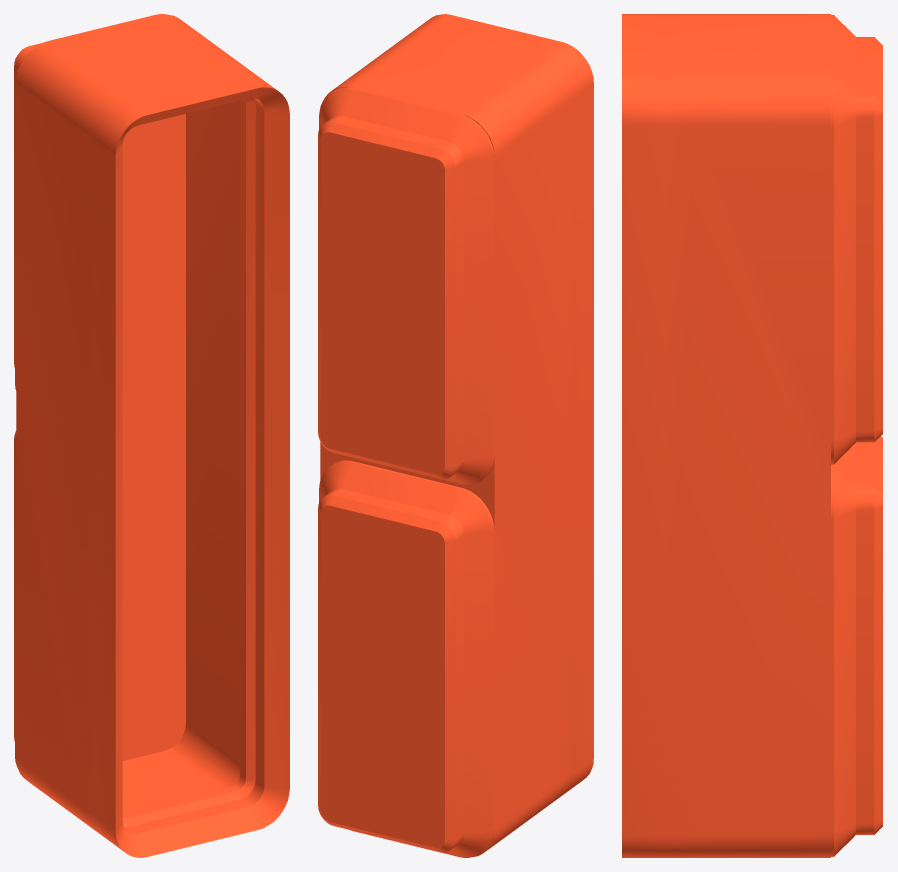
Rendered from half-bin-0_5x2-strip.glb.
3 renders of one model, left to right at view 1: azimuth 30°, elevation 25°; view 2: azimuth 150°, elevation 25°; view 3: azimuth 270°, elevation 25°, orthographic. The views are drawn at different scales.
Size of the model in its own units: 20.52 by 83.5 by 25.39.
